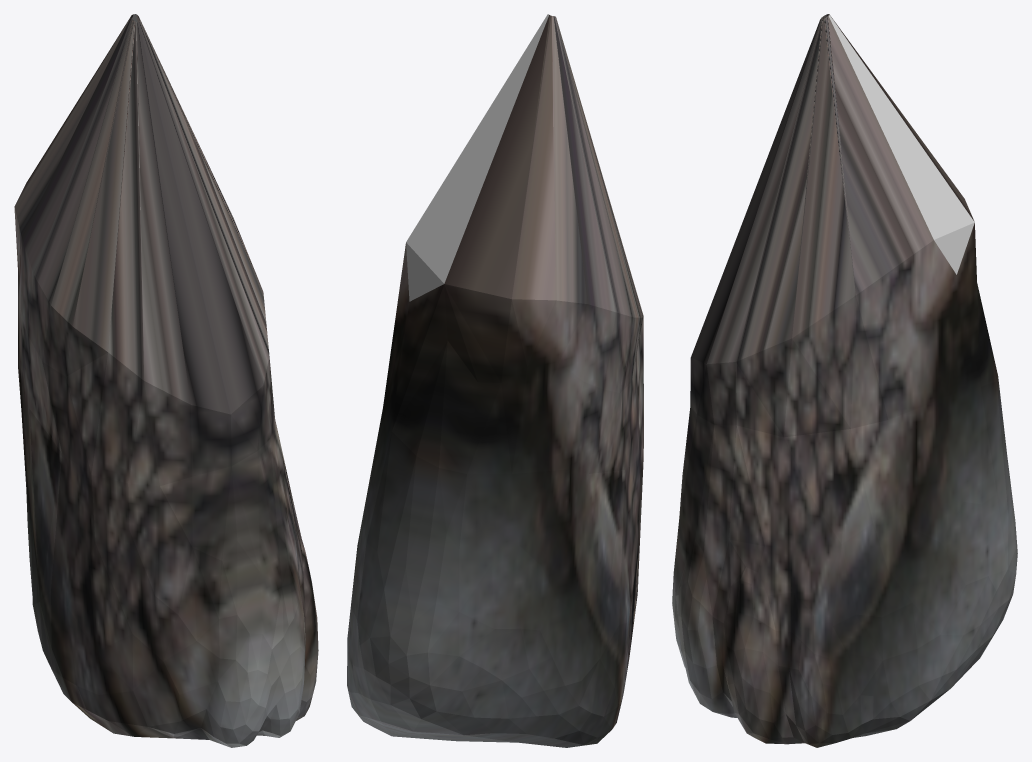
File: Tortoise_RightRearleg_new5.dae
3 renders of one model, left to right at view 1: azimuth 30°, elevation 25°; view 2: azimuth 150°, elevation 25°; view 3: azimuth 270°, elevation 25°, orthographic. The views are drawn at different scales.
Parts seen in each view (by area): view 1: tortoise_002; view 2: tortoise_002; view 3: tortoise_002.
Boxes of the visible parts, left/top/right/bottom form: tortoise_002: left=14, top=14, right=318, bottom=747; tortoise_002: left=347, top=14, right=643, bottom=747; tortoise_002: left=672, top=14, right=1017, bottom=747.
Bounding box in the file's own units: 2.87 × 3.75 × 8.02.
Materials: 2 (1 with a texture image).
